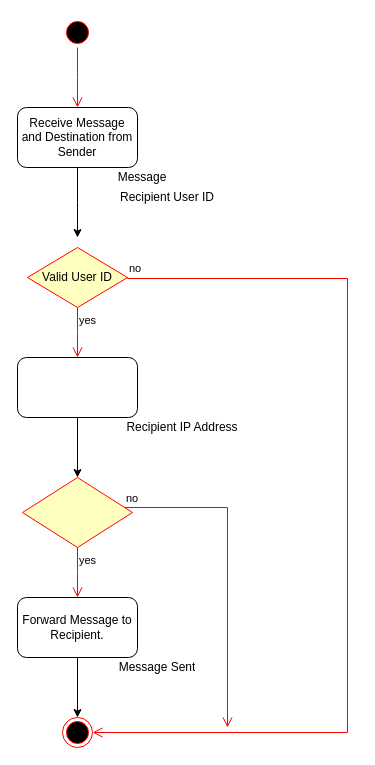
This 375x765 diagram has some shape labels left out. The centre of each missing label's shape, as x and y in pixels:
"Retrieve IP address and attempt to connect." goes at (77,387).
"TCP Connection" goes at (77,512).
